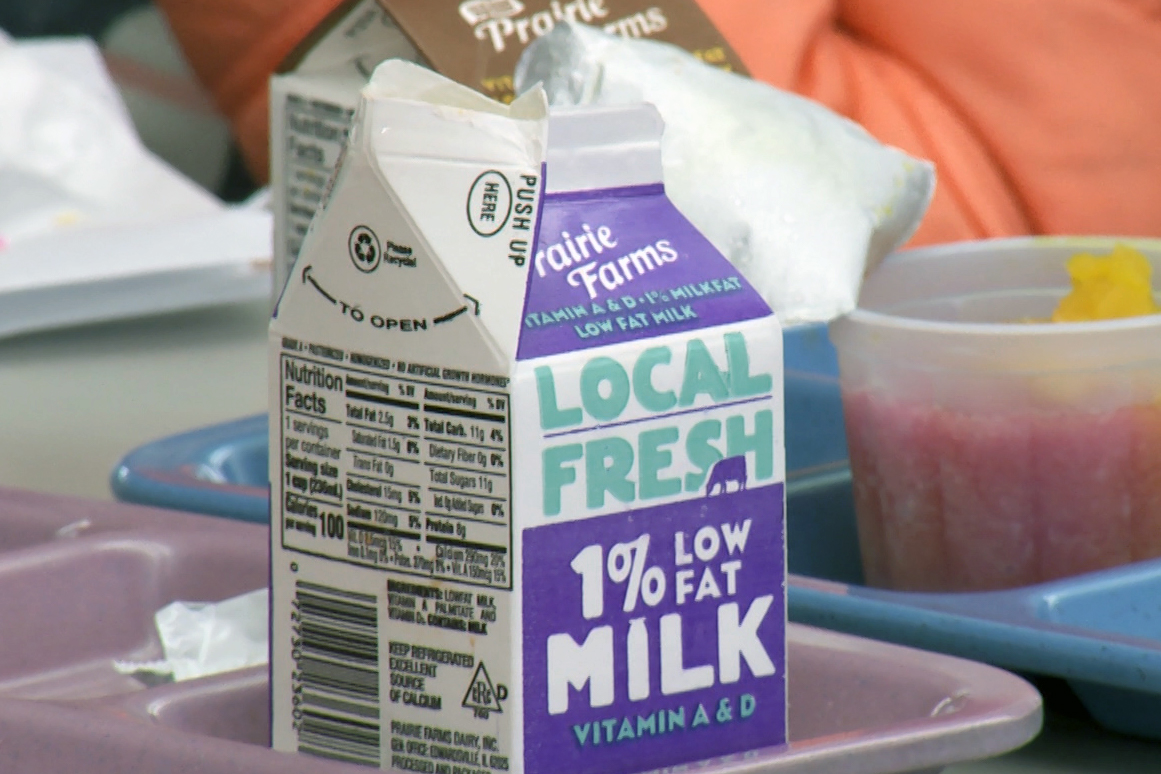Milk_Carton: (270, 76, 789, 757)
